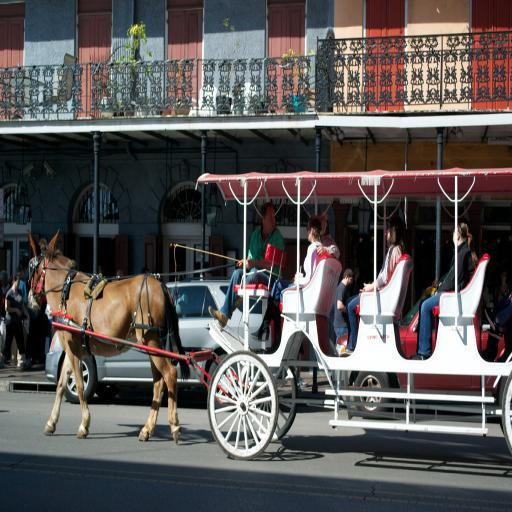Horse: (26, 230, 192, 449)
